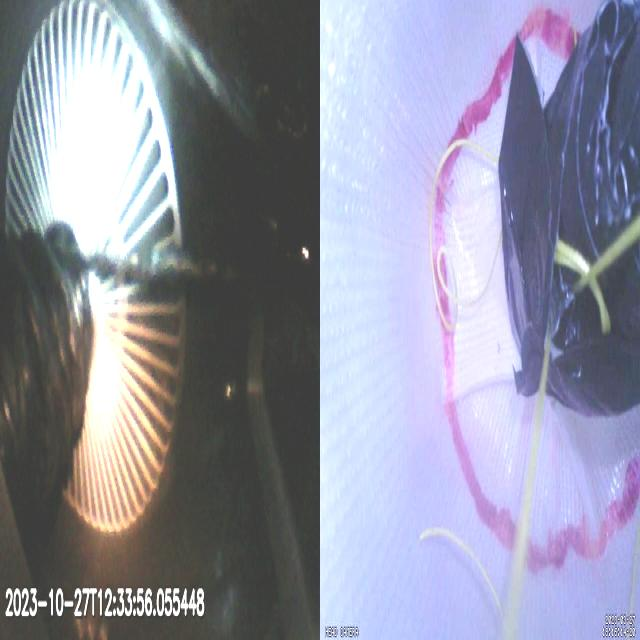red-circle: (433, 9, 640, 574)
